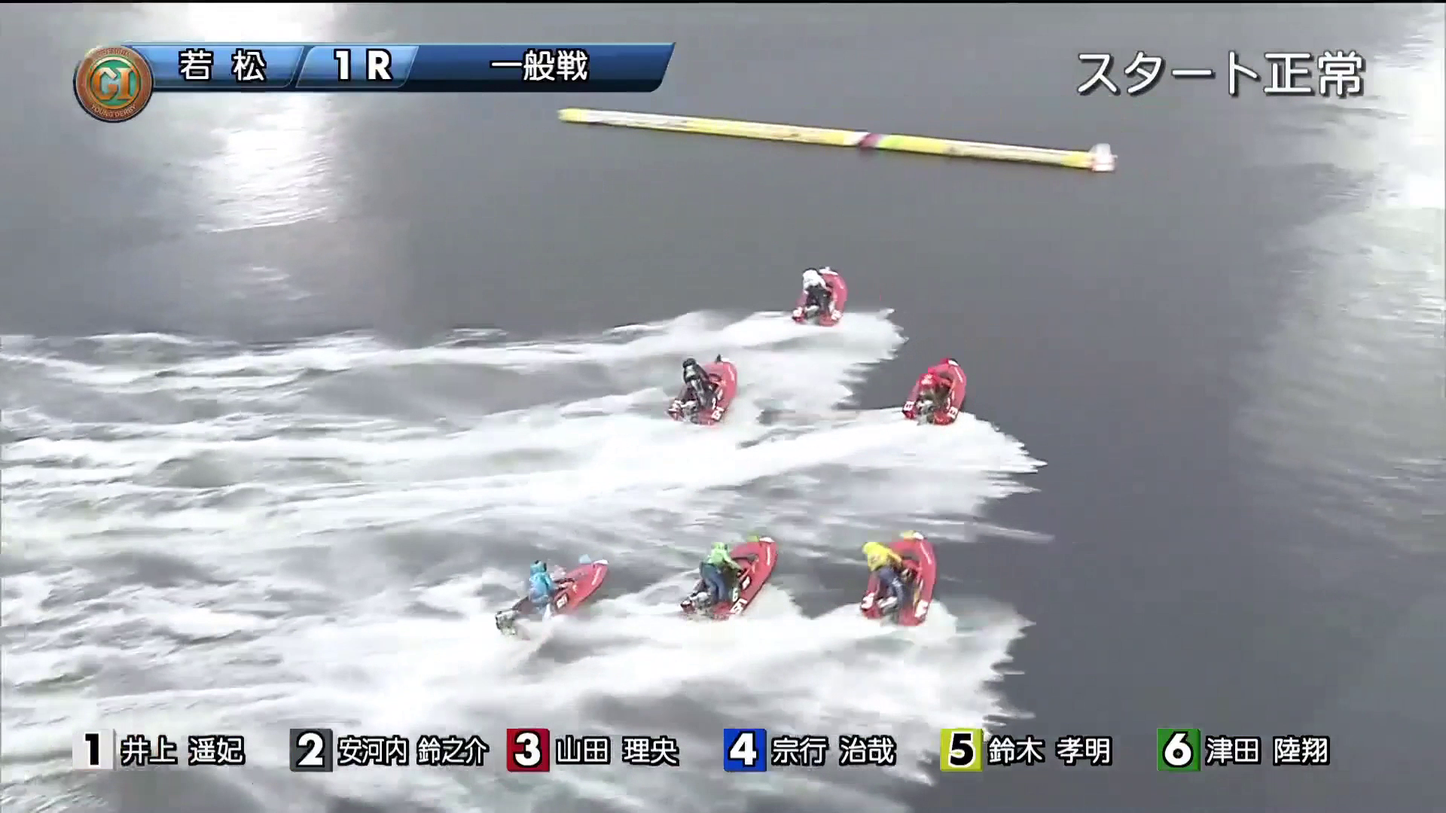１号艇: (769, 265, 862, 319)
２号艇: (642, 355, 771, 415)
３号艇: (874, 374, 986, 421)
４号艇: (643, 541, 777, 606)
５号艇: (455, 571, 578, 626)
６号艇: (842, 534, 941, 591)
